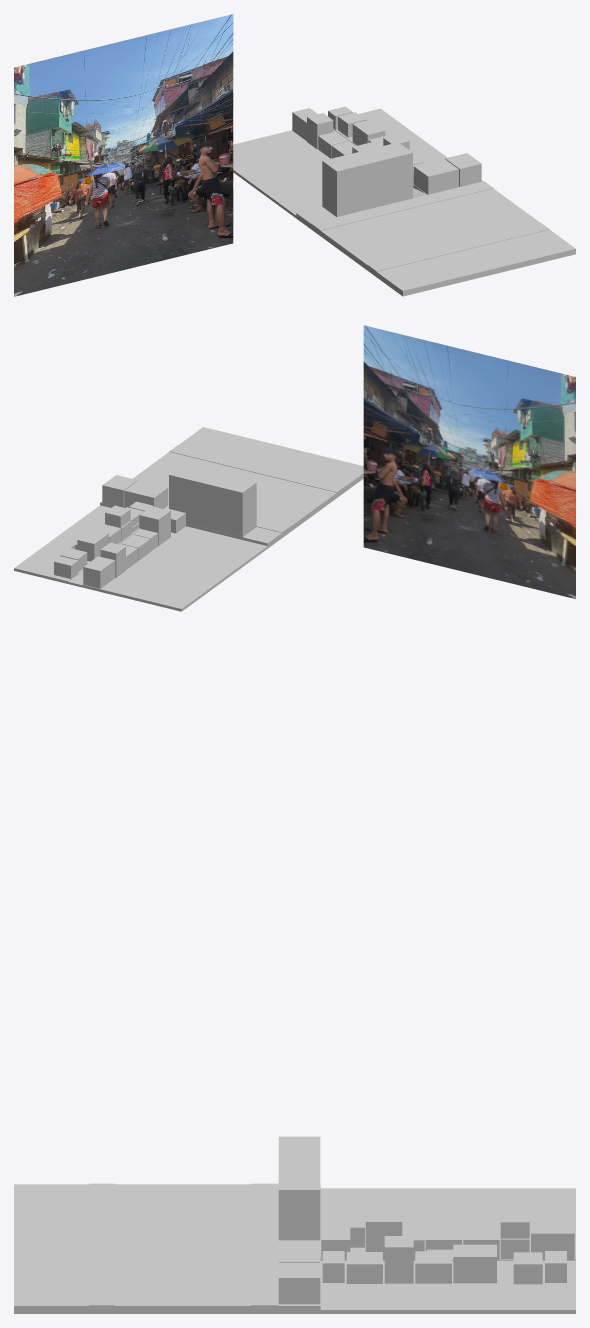
The model's file is Slums.glb.
3 views of the same model, one above another, from view 1: azimuth 30°, elevation 25°; view 2: azimuth 150°, elevation 25°; view 3: azimuth 270°, elevation 25° (orthographic). The views are drawn at different scales.
Parts seen in each view (by area): view 1: Plane.001, Ground, Apartment Building, Laundry shop, Apartment Building.002, House1, House9, House6, MCHouse, House5; view 2: Plane.001, Ground, Apartment Building, Laundry shop, House3, House6, Apartment Building.002, House10, House9, House1, House12, House5 (+1 smaller); view 3: Ground, Apartment Building, Apartment Building.002, House9, House6, House10, House3, House1, House8, House7, House4, Laundry shop (+1 smaller).
Part boxes in pixels (x1,y1,x2,y2): Plane.001: (14,14,233,296); Ground: (233,108,575,296); Apartment Building: (322,142,412,216); Laundry shop: (413,158,458,194); Apartment Building.002: (445,153,481,186); House1: (307,113,334,149); House9: (352,119,385,145); House6: (292,108,317,140); MCHouse: (318,131,347,158); House5: (338,112,366,137); Plane.001: (363,325,575,598); Ground: (14,427,363,611); Apartment Building: (169,464,256,536); Laundry shop: (124,480,168,508); House3: (139,506,170,546); House6: (83,556,115,588); Apartment Building.002: (102,475,137,507); House10: (105,505,131,540); House9: (77,529,108,559); House1: (100,542,125,577); House12: (54,556,78,578); House5: (60,544,92,571); Ground: (14,1183,575,1313); Apartment Building: (278,1136,320,1240); Apartment Building.002: (278,1262,320,1304); House9: (453,1244,496,1283); House6: (531,1221,574,1259); House10: (384,1236,413,1283); House3: (365,1208,402,1259); House1: (500,1210,529,1259); House8: (415,1251,451,1283); House7: (346,1252,382,1283); House4: (321,1227,364,1259); Laundry shop: (278,1240,320,1262).
Size of the model in its own units: 108 by 51.76 by 77.18.
1 material, 1 textured.
